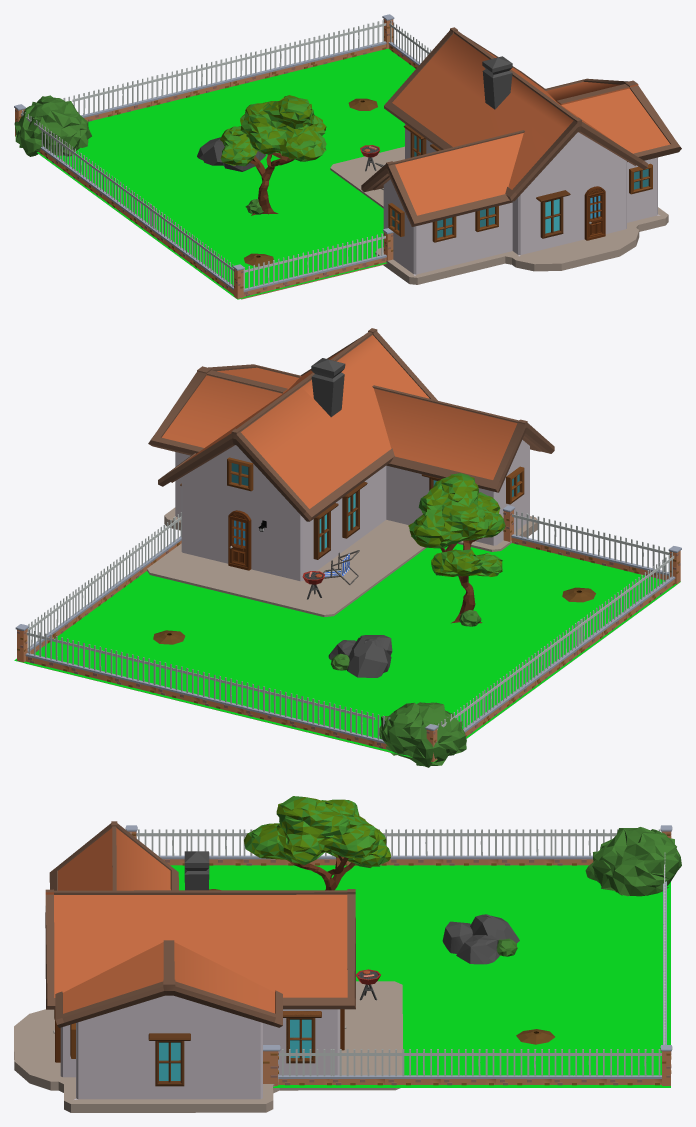
Rendered from Level_Easy_Small_grass_mesh.fbx.
3 views of the same model, one above another, from view 1: azimuth 30°, elevation 25°; view 2: azimuth 150°, elevation 25°; view 3: azimuth 270°, elevation 25° (orthographic). The views are drawn at different scales.
Parts seen in each view (by area): view 1: House_Small, Plane.001, grass_mesh, TreeBase, Fence_Corner.001, BigBoyBush, Fence_Corner.005, Fence_middle.008, Fence_middle.007, Fence_middle.006, Fence_middle.018, Fence_middle.012 (+9 smaller); view 2: House_Small, grass_mesh, Plane.001, TreeBase, Fence_Corner.001, BigBoyBush, Fence_Corner.005, medium_Rock_1.001, Fence_middle.006, Fence_middle.007, Fence_middle.008, Fence_middle.013 (+11 smaller); view 3: House_Small, grass_mesh, Plane.001, TreeBase, BigBoyBush, Fence_middle.012, Fence_middle, Fence_middle.011, Fence_middle.002, Fence_middle.013, Fence_middle.019, Fence_middle.003 (+12 smaller).
Boxes of the visible parts, bbox=[...] form: House_Small: bbox=[330, 27, 681, 284]; Plane.001: bbox=[37, 48, 415, 299]; grass_mesh: bbox=[103, 59, 409, 285]; TreeBase: bbox=[220, 95, 326, 215]; Fence_Corner.001: bbox=[63, 48, 269, 121]; BigBoyBush: bbox=[14, 95, 91, 156]; Fence_Corner.005: bbox=[241, 233, 386, 299]; Fence_middle.008: bbox=[346, 20, 386, 58]; Fence_middle.007: bbox=[308, 29, 347, 67]; Fence_middle.006: bbox=[268, 39, 308, 77]; Fence_middle.018: bbox=[191, 236, 216, 282]; Fence_middle.012: bbox=[64, 142, 88, 187]; House_Small: bbox=[147, 328, 554, 617]; grass_mesh: bbox=[52, 551, 641, 732]; Plane.001: bbox=[14, 543, 680, 762]; TreeBase: bbox=[408, 473, 505, 623]; Fence_Corner.001: bbox=[155, 661, 411, 757]; BigBoyBush: bbox=[379, 702, 466, 767]; Fence_Corner.005: bbox=[511, 511, 669, 580]; medium_Rock_1.001: bbox=[347, 637, 391, 677]; Fence_middle.006: bbox=[112, 650, 156, 694]; Fence_middle.007: bbox=[69, 640, 113, 684]; Fence_middle.008: bbox=[25, 629, 69, 674]; Fence_middle.013: bbox=[533, 636, 560, 688]; House_Small: bbox=[14, 821, 402, 1112]; grass_mesh: bbox=[178, 869, 655, 1075]; Plane.001: bbox=[170, 865, 670, 1087]; TreeBase: bbox=[244, 796, 390, 890]; BigBoyBush: bbox=[585, 827, 681, 896]; Fence_middle.012: bbox=[498, 829, 553, 865]; Fence_middle: bbox=[329, 1049, 384, 1085]; Fence_middle.011: bbox=[443, 829, 498, 865]; Fence_middle.002: bbox=[496, 1049, 551, 1085]; Fence_middle.013: bbox=[388, 829, 443, 865]; Fence_middle.019: bbox=[278, 1049, 333, 1085]; Fence_middle.003: bbox=[440, 1049, 496, 1085].
Size of the model in its own units: 7874 by 2997 by 8751.
